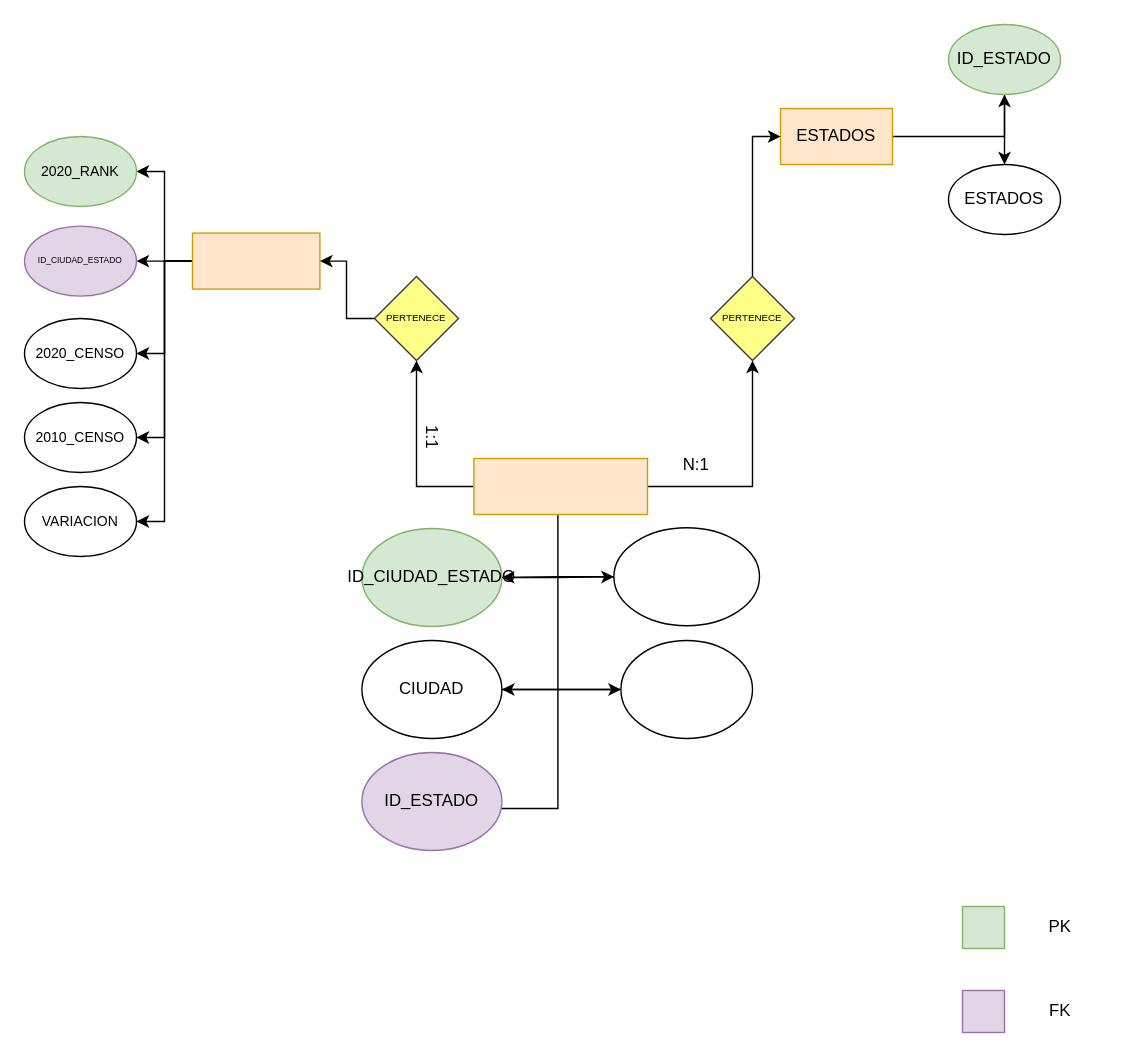
The diagram is 1127 pixels wide and 1057 high, and some of its shapes have lost their labels. Here are the shapes that lost their labels. From the top down, the centre of each, then its label:
point 255,260: DATOS_CENSO
point 560,485: CIUDA DES_USA
point 686,576: AREA
point 686,688: UBICACION
